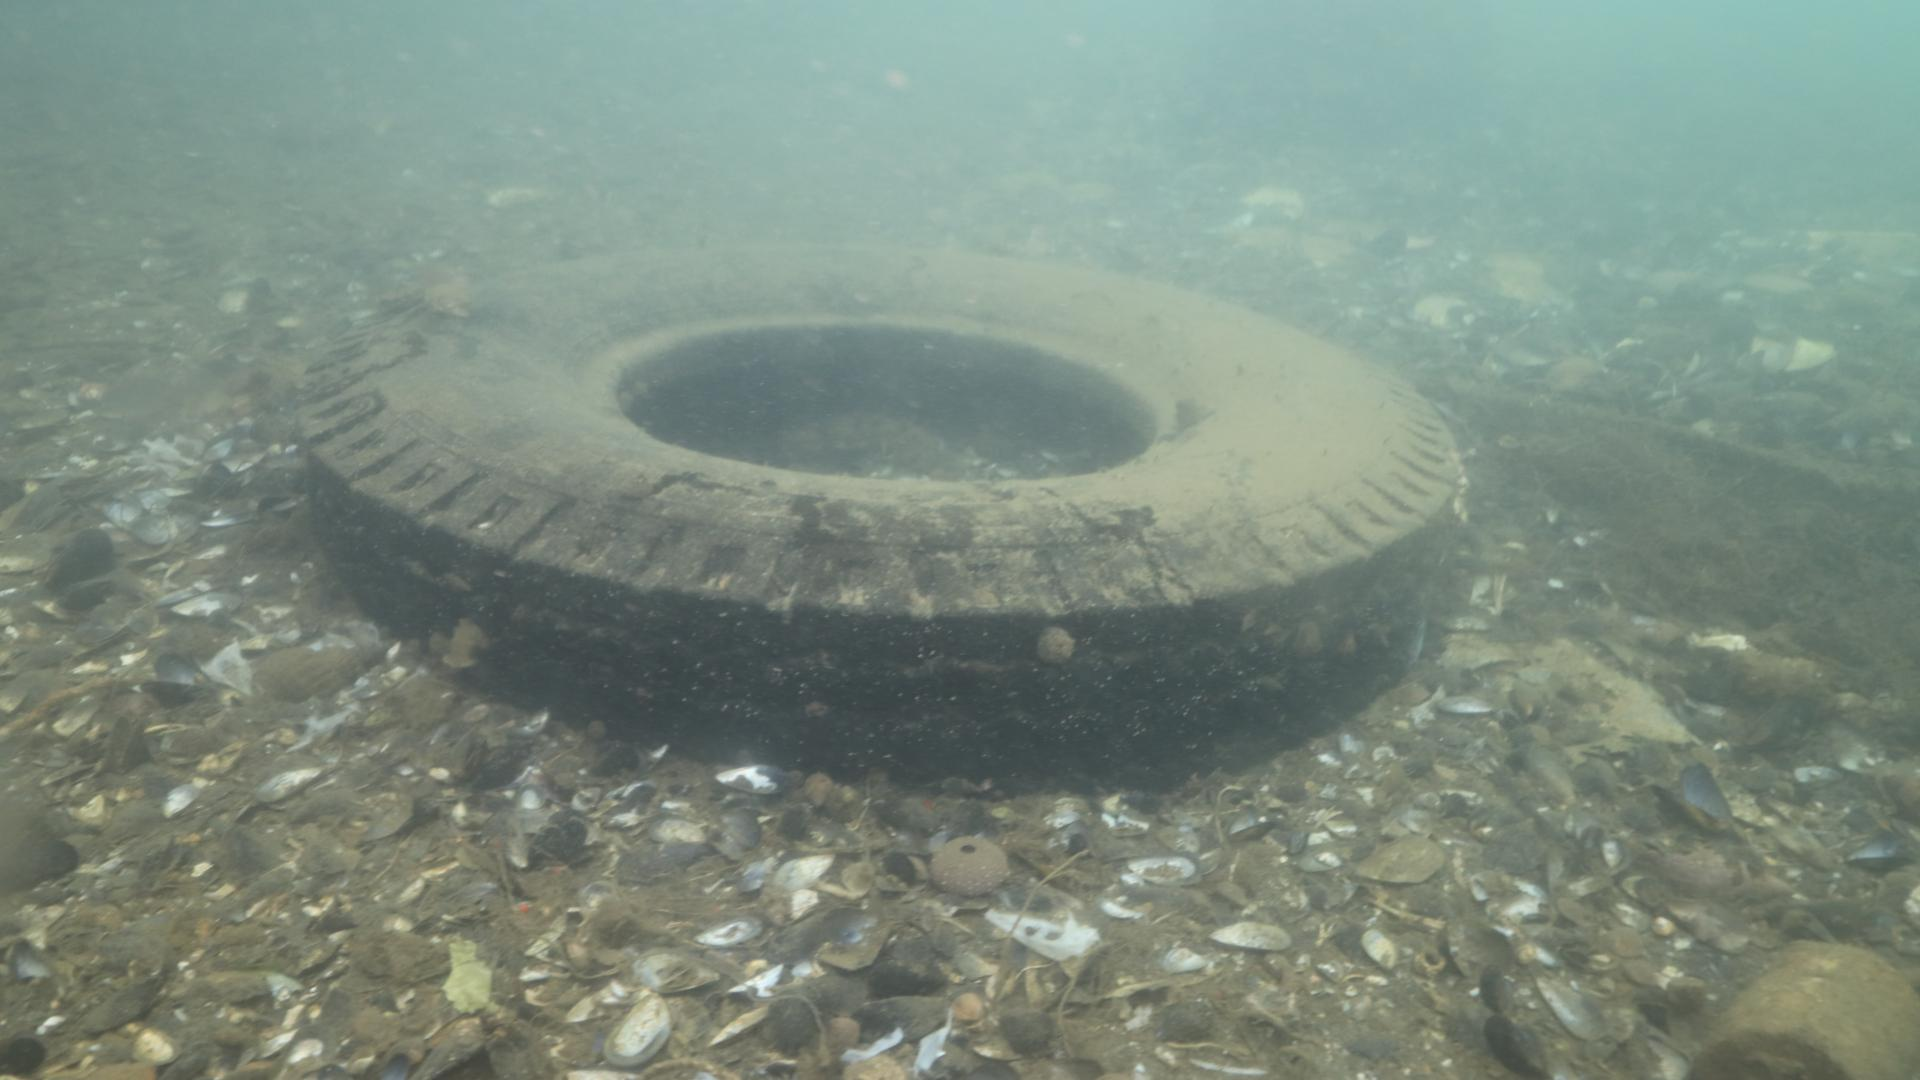tire: (295, 235, 1470, 767)
